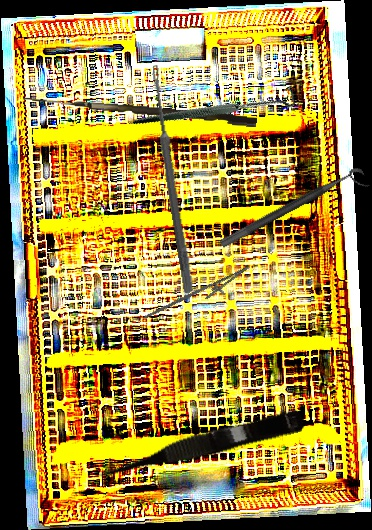Fixation Ring: (218, 165, 371, 260)
Hook Surgical: (132, 38, 301, 174), (21, 96, 258, 128)
Micro Scissor: (88, 404, 307, 487)
Needle Holder: (143, 253, 255, 339)
Surgical Spoon: (147, 63, 196, 294)
